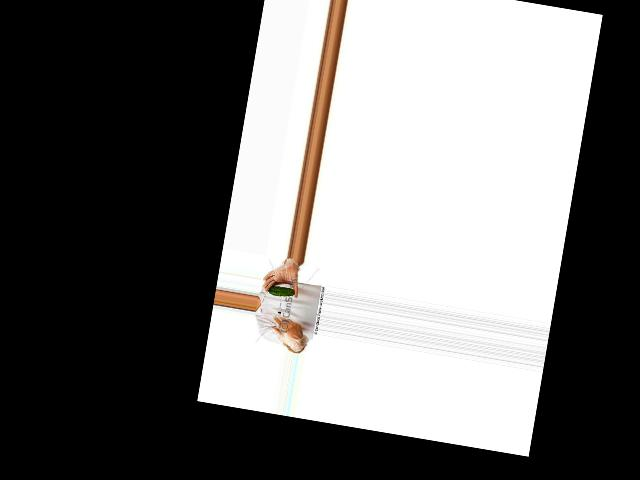cucumber: (267, 284, 295, 297)
